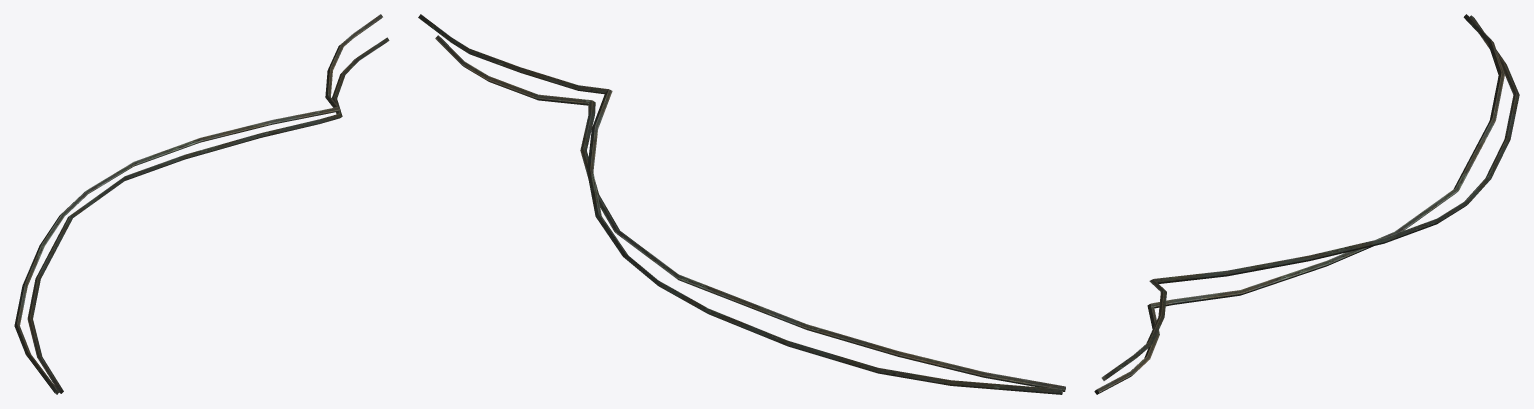
File: huodong_fuben_662_rkzhu_shengzi.obj
3 renders of one model, left to right at view 1: azimuth 90°, elevation 25°; view 2: azimuth 150°, elevation 25°; view 3: azimuth 270°, elevation 25°, orthographic. The views are drawn at different scales.
Visible parts, largest first — view 1: objObject17; view 2: objObject17; view 3: objObject17.
Part boxes in pixels (x1=…): objObject17: x1=14, y1=14, x2=389, y2=394; objObject17: x1=418, y1=14, x2=1065, y2=394; objObject17: x1=1094, y1=14, x2=1519, y2=394.
Size of the model in its own units: 984 by 47 by 448.
1 material, 1 textured.
